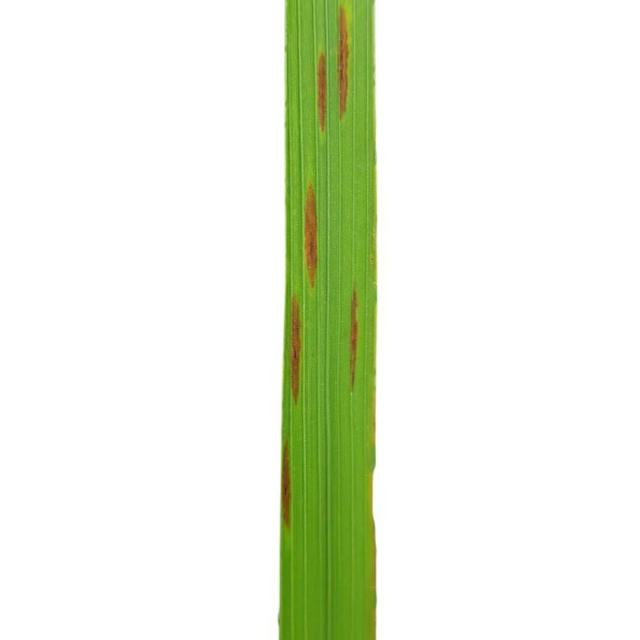Narrow brown: (256, 0, 425, 640)
